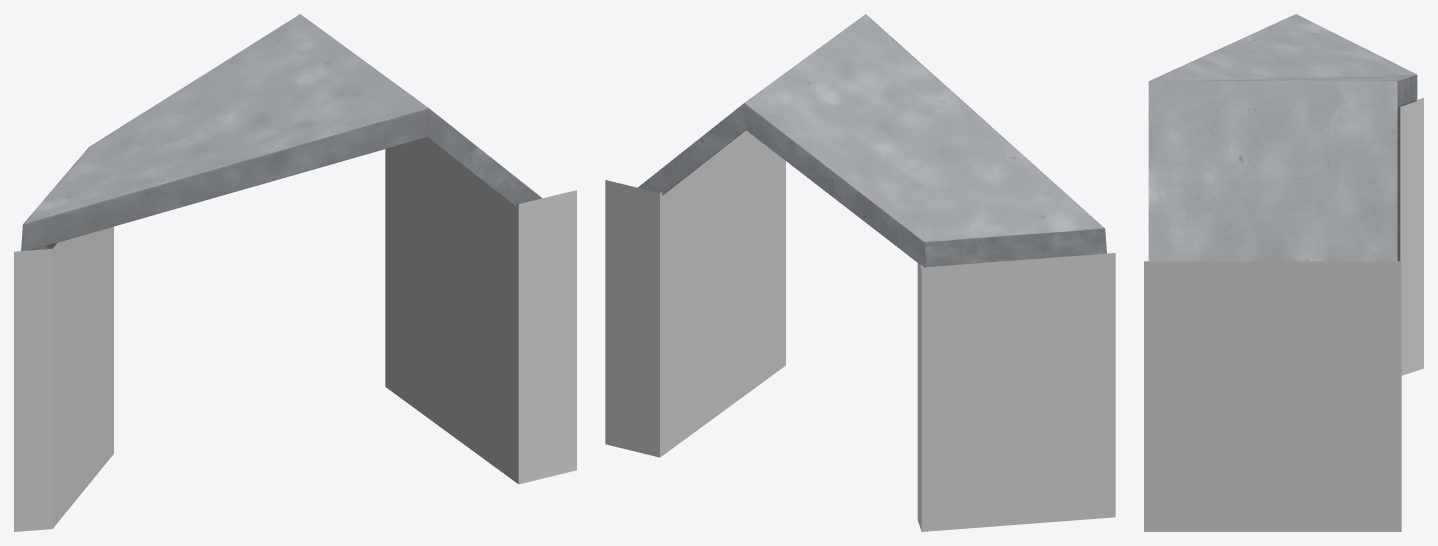
Rendered from concrete arch.glb.
3 views of the same model, side by side, from view 1: azimuth 30°, elevation 25°; view 2: azimuth 150°, elevation 25°; view 3: azimuth 270°, elevation 25° (orthographic). The views are drawn at different scales.
Parts seen in each view (by area): view 1: phy-body-main-trimesh-0kg-0001.001, concrete arch; view 2: phy-body-main-trimesh-0kg-0001.001, concrete arch; view 3: phy-body-main-trimesh-0kg-0001.001, concrete arch.
Part boxes in pixels (box(x1,y1,x2,y2)): phy-body-main-trimesh-0kg-0001.001: box(14, 137, 576, 531); concrete arch: box(21, 14, 541, 250); phy-body-main-trimesh-0kg-0001.001: box(605, 130, 1115, 531); concrete arch: box(638, 14, 1106, 267); phy-body-main-trimesh-0kg-0001.001: box(1144, 98, 1423, 531); concrete arch: box(1148, 14, 1417, 261).
Bounding box in the file's own units: 3.57 × 2.78 × 1.85.
1 material, 1 textured.
